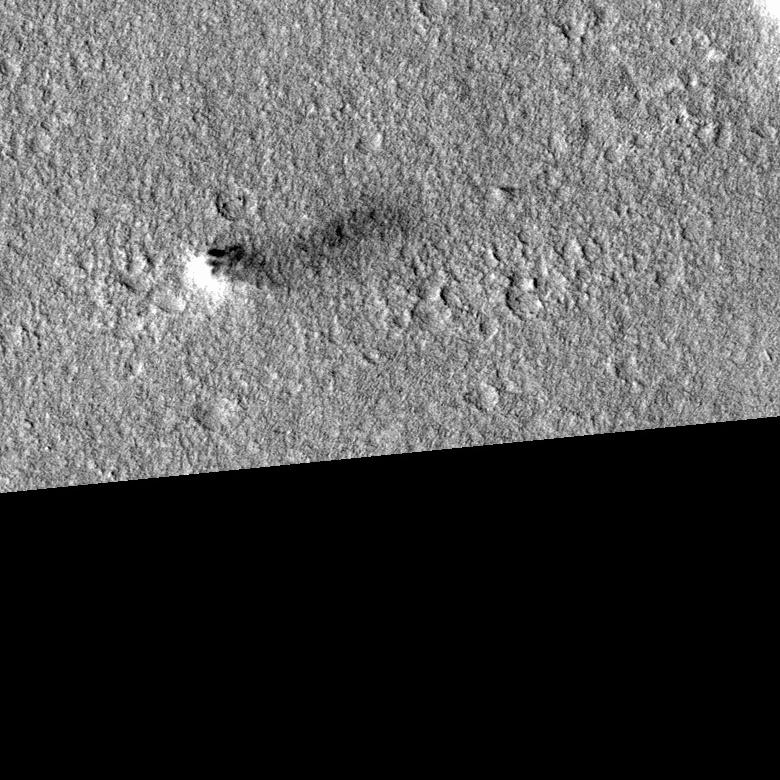dust_devil: (180, 205, 410, 304)
